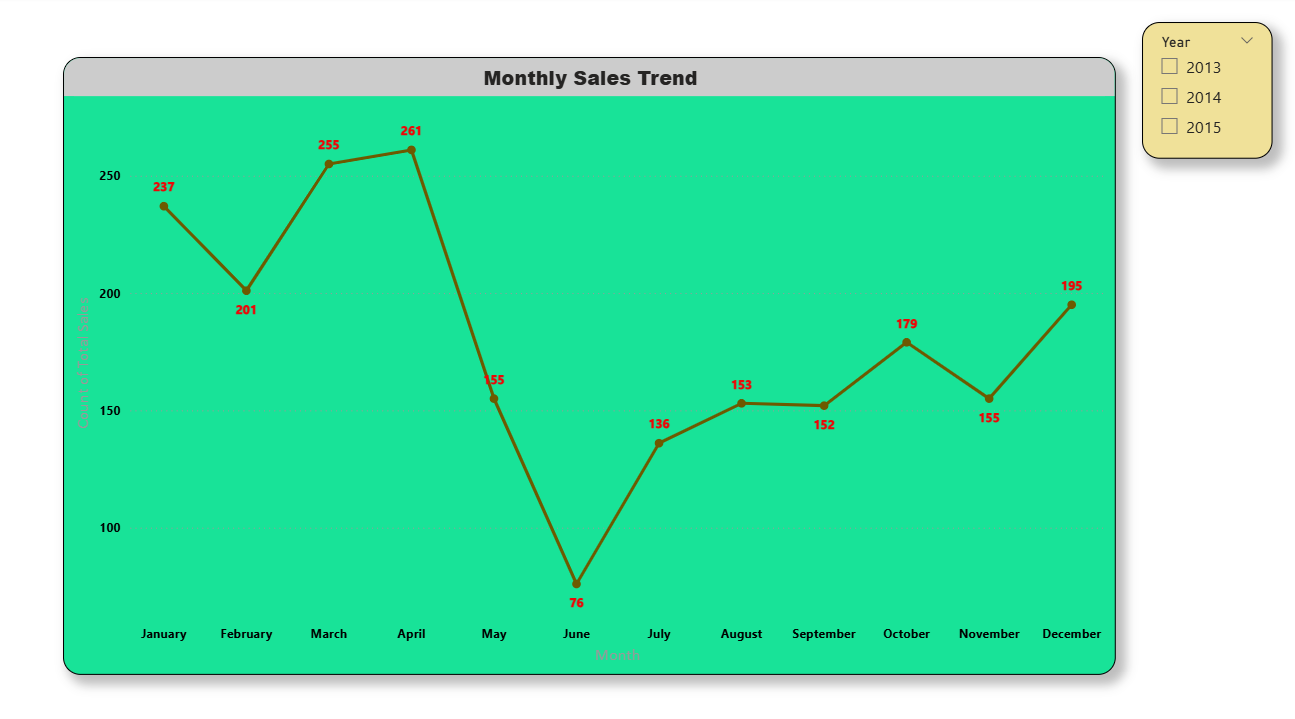

Layout of this report page (visuals, bound fields, positions):
{"tool":"powerbi","page":{"name":"Sales Overview","canvas":[1280,720],"ordinal":0},"visuals":[{"type":"lineChart","title":"Monthly Sales Trend ","fields":{"Category":["orders.orderDate.Variation.Date Hierarchy.Month"],"Y":["CountNonNull(order_details.Total Sales)"]},"box":[68.1,59.3,1024.2,601.1],"z":0},{"type":"slicer","fields":{"Values":["orders.orderDate.Variation.Date Hierarchy.Year"]},"box":[1117.6,25.3,127.4,133.3],"z":1000}]}

Visuals, with their boxes in screenshot pixels (x1, y1, x2, y2), scaled from the page's 1280x720 canvas onto the 1295x719 screenshot:
"Monthly Sales Trend " lineChart: bbox=(69, 59, 1105, 659)
slicer - orders.orderDate.Variation.Date Hierarchy.Year: bbox=(1131, 25, 1260, 158)
